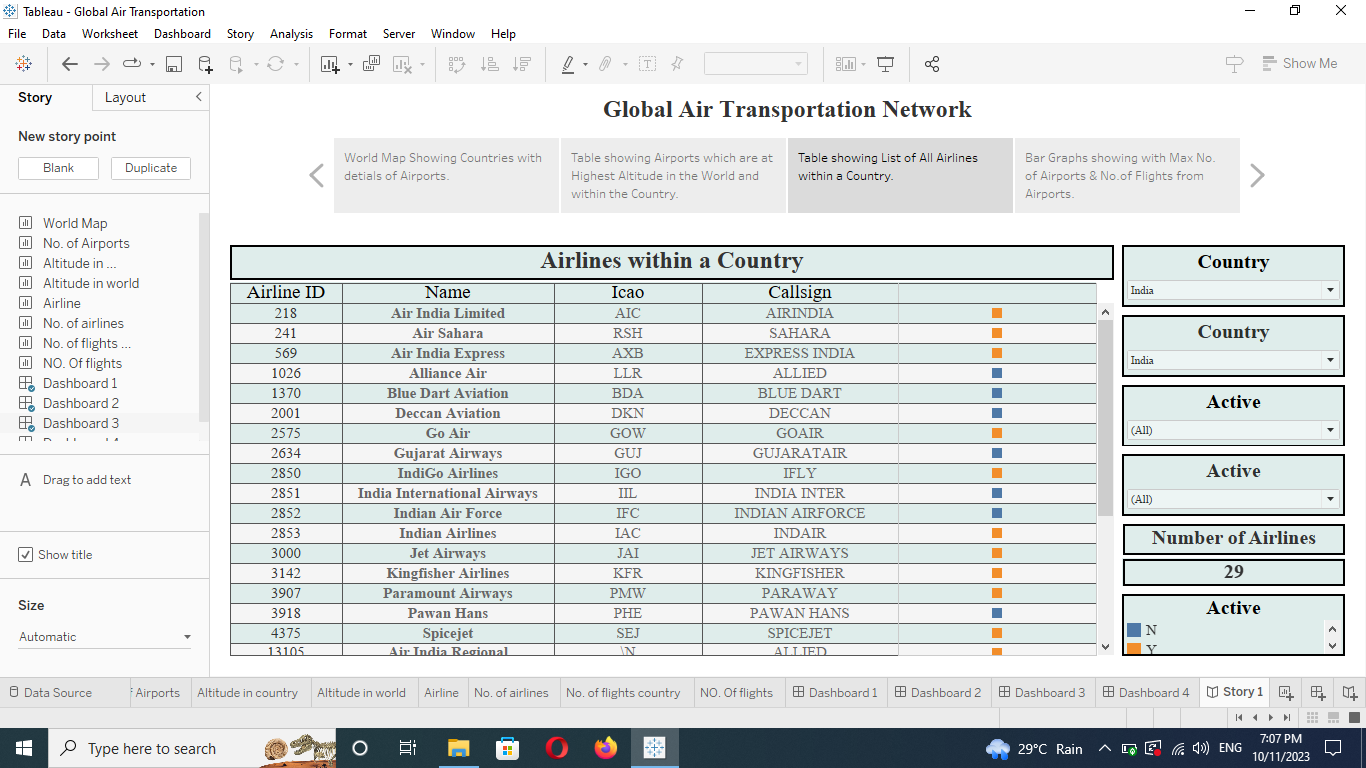

The page's visual inventory and layout, read from the dashboard file:
{"tool":"tableau","page":{"name":"Dashboard 3","canvas":[1000,1000],"units":"permille","ordinal":2},"visuals":[{"type":"worksheet","title":"Airline","mark":"Automatic","rows":["Airline ID","Name","ICAO","Callsign"],"box":[6.9,13.5,786.1,973]},{"type":"filter","title":"Airline","param":"[federated.0mnjfow1o9cxgx1b9vua4074vz4p].[none:Country:nk]","box":[793.1,13.5,200,138.5]},{"type":"filter","title":"No. of airlines","param":"[federated.0mnjfow1o9cxgx1b9vua4074vz4p].[none:Country:nk]","box":[793.1,152,200,135.1]},{"type":"filter","title":"Airline","param":"[federated.0mnjfow1o9cxgx1b9vua4074vz4p].[none:Active:nk]","box":[793.1,287.2,200,130.1]},{"type":"filter","title":"No. of airlines","param":"[federated.0mnjfow1o9cxgx1b9vua4074vz4p].[none:Active:nk]","box":[793.1,417.2,200,130.1]},{"type":"worksheet","title":"No. of airlines","mark":"Automatic","box":[793.1,547.3,200,299]},{"type":"legend","title":"Airline","param":"[federated.0mnjfow1o9cxgx1b9vua4074vz4p].[none:Active:nk]","box":[793.1,846.2,200,131.8]}]}

Visuals, with their boxes on the dashboard's canvas, which has no fixed pixel size, in thousandths of its width and height (x1, y1, x2, y2). These are canvas units, not pixel positions in the 1366x768 screenshot, which may show the page scaled, cropped or inside an application window:
"Airline" worksheet: select_region(7, 14, 793, 986)
"Airline" filter: select_region(793, 14, 993, 152)
"No. of airlines" filter: select_region(793, 152, 993, 287)
"Airline" filter: select_region(793, 287, 993, 417)
"No. of airlines" filter: select_region(793, 417, 993, 547)
"No. of airlines" worksheet: select_region(793, 547, 993, 846)
"Airline" legend: select_region(793, 846, 993, 978)
